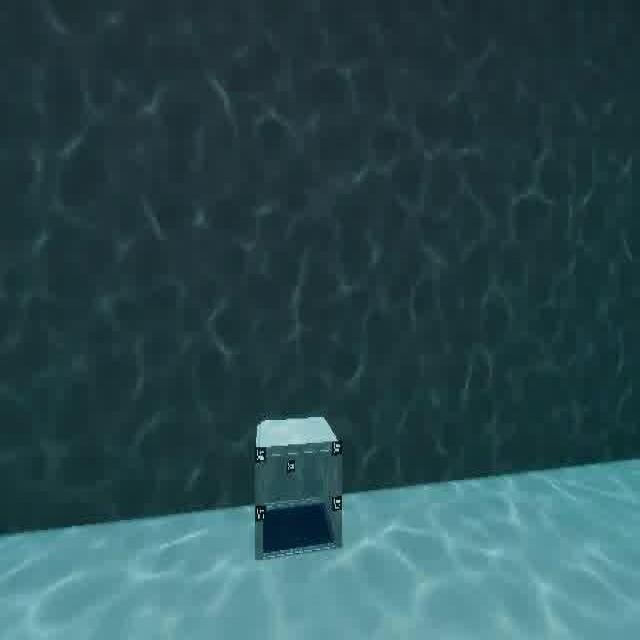Docking Station: (251, 412, 347, 574)
